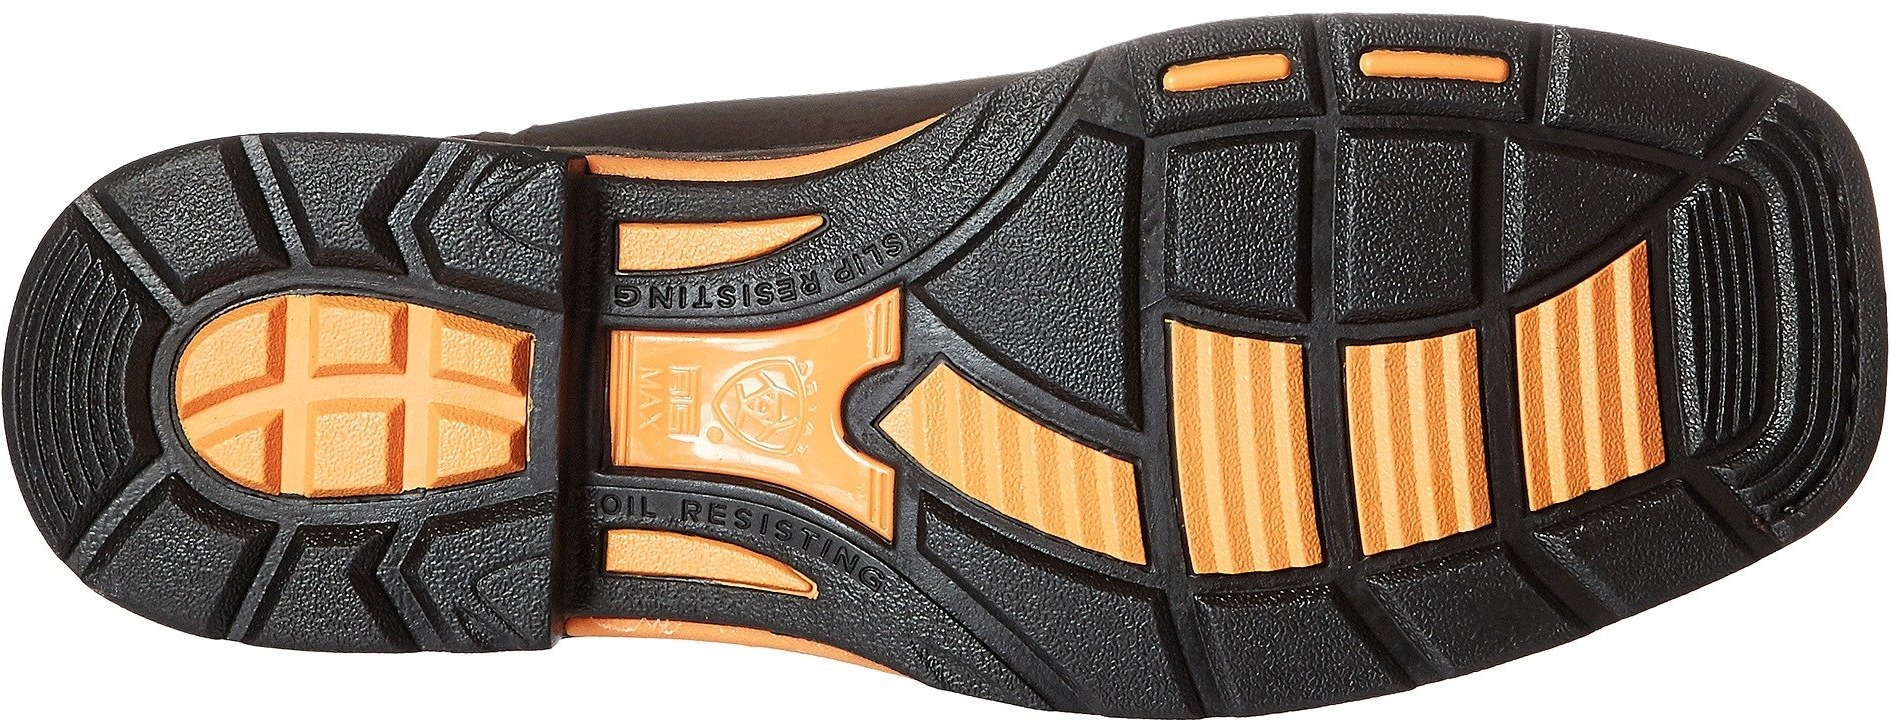chevron: (324, 127, 444, 288)
exclude: (558, 149, 930, 668)
quad: (1138, 317, 1532, 600), (1185, 96, 1444, 313), (252, 294, 431, 504)
triangle: (1474, 111, 1691, 303)
